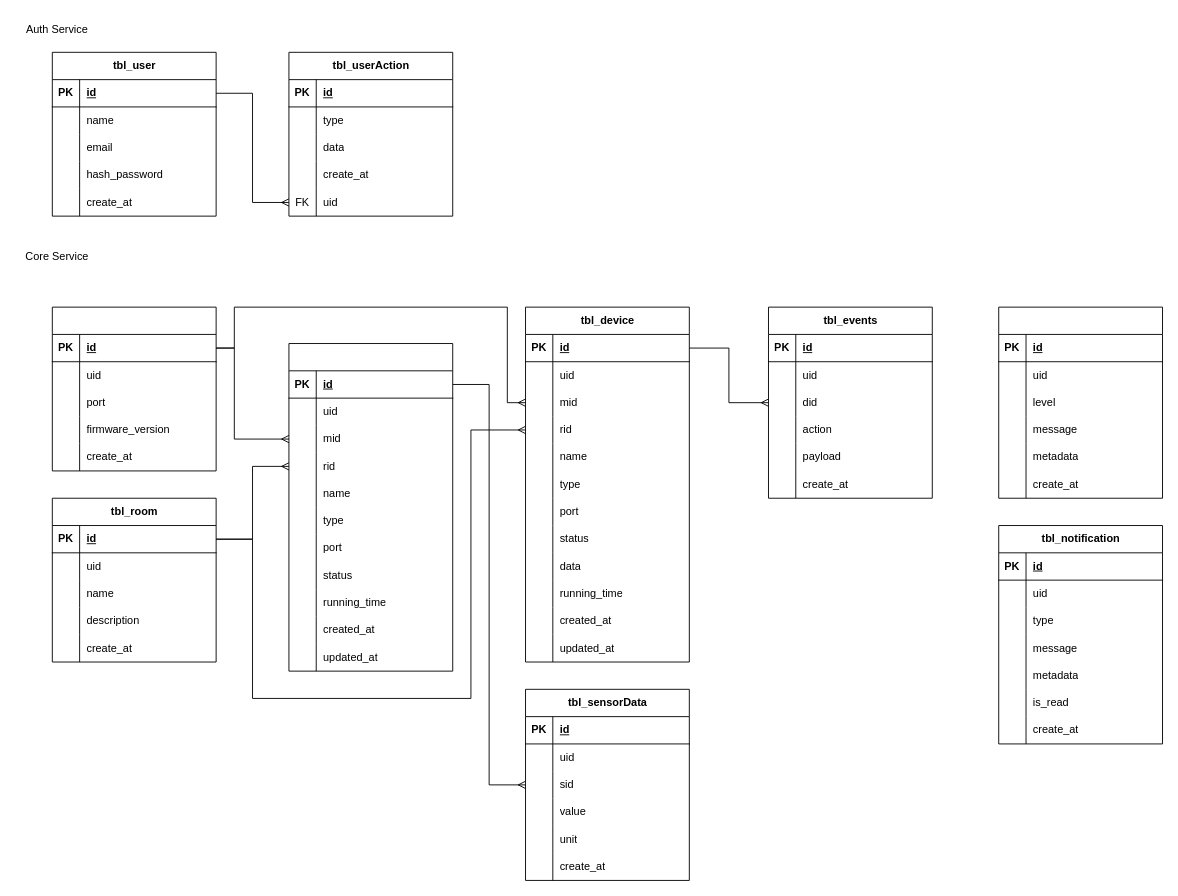
This 1178x896 diagram has some shape labels left out. The shapes that lost their labels are listed below. From the top down, each one's box as (x1, y1, x2, y2) in pixels, then its label:
(51, 306, 216, 471): tbl_mcu
(998, 306, 1163, 498): tbl_log
(288, 343, 453, 671): tbl_sensor
